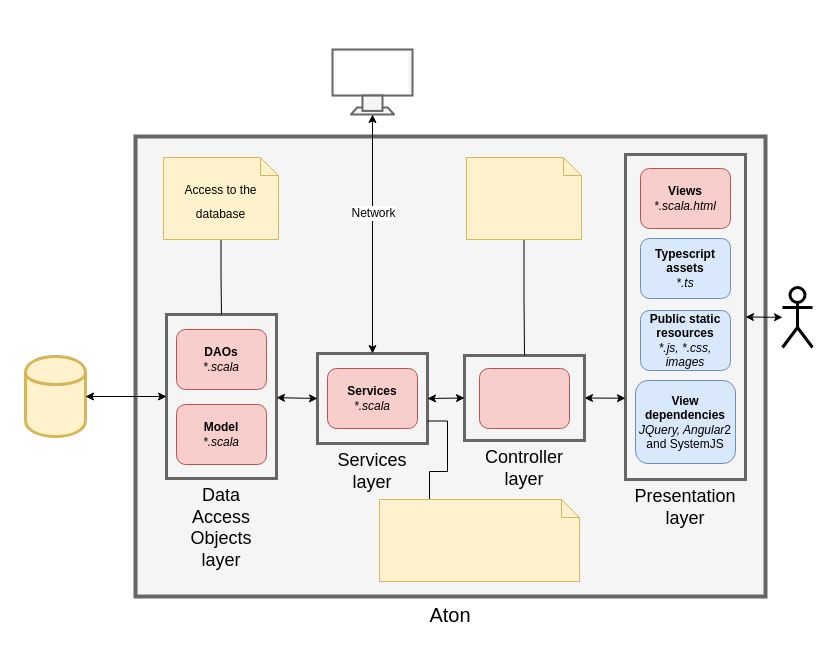
Some shapes in this 834 by 645 pixel diagram are drawn without their labels. Here are the shapes that lost their labels. From the top down, the centre of each, then its label:
the point at 372,82: Other computers (SSH server enabled)
the point at 524,198: Play has a default controller for the static resources
the point at 797,317: User
the point at 55,396: Database
the point at 524,398: Controllers *.scala
the point at 479,540: Business logic, including data pre-processing and SSH access
